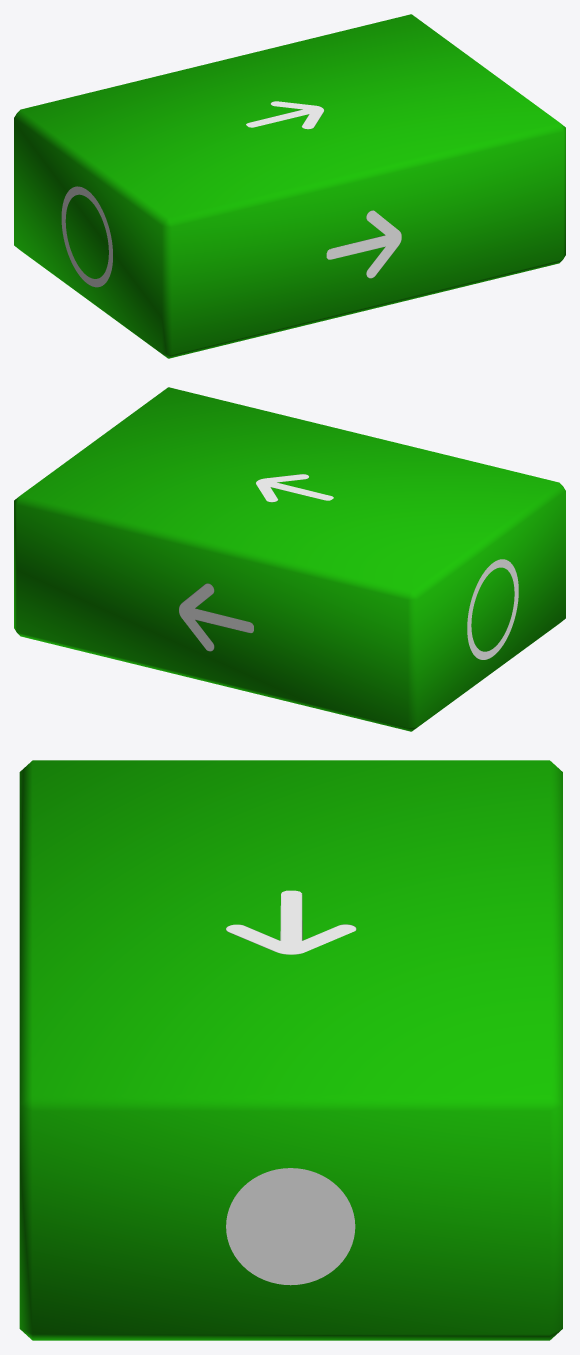
File: BigBoxTapFlowBox_2_1_3_Clean_test2.fbx
3 renders of one model, top to bottom at view 1: azimuth 30°, elevation 25°; view 2: azimuth 150°, elevation 25°; view 3: azimuth 270°, elevation 25°, orthographic. The views are drawn at different scales.
Visible parts, largest first — view 1: BigBoxTapFlowBox_2_1_3_Clean_test; view 2: BigBoxTapFlowBox_2_1_3_Clean_test; view 3: BigBoxTapFlowBox_2_1_3_Clean_test.
Boxes of the visible parts, x1=… form: BigBoxTapFlowBox_2_1_3_Clean_test: x1=14, y1=14, x2=565, y2=358; BigBoxTapFlowBox_2_1_3_Clean_test: x1=14, y1=387, x2=565, y2=731; BigBoxTapFlowBox_2_1_3_Clean_test: x1=19, y1=760, x2=562, y2=1340.
Size of the model in its own units: 3.17 by 1.05 by 2.13.
Materials: 1 (1 with a texture image).
